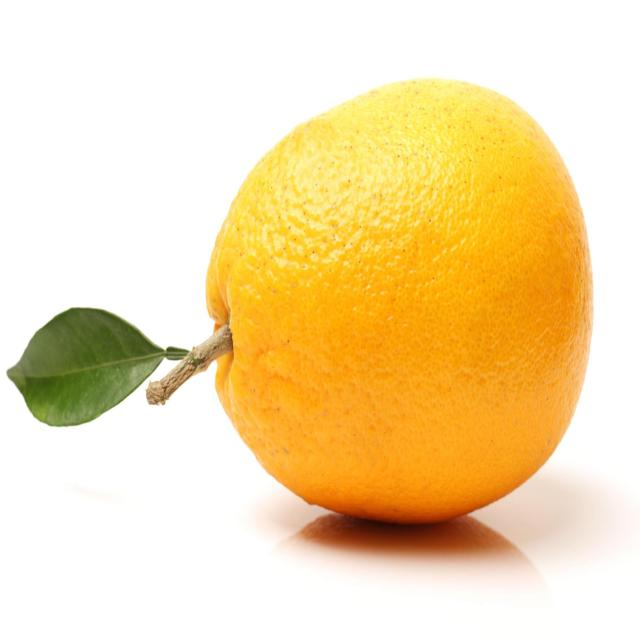lemon: (4, 69, 599, 533)
